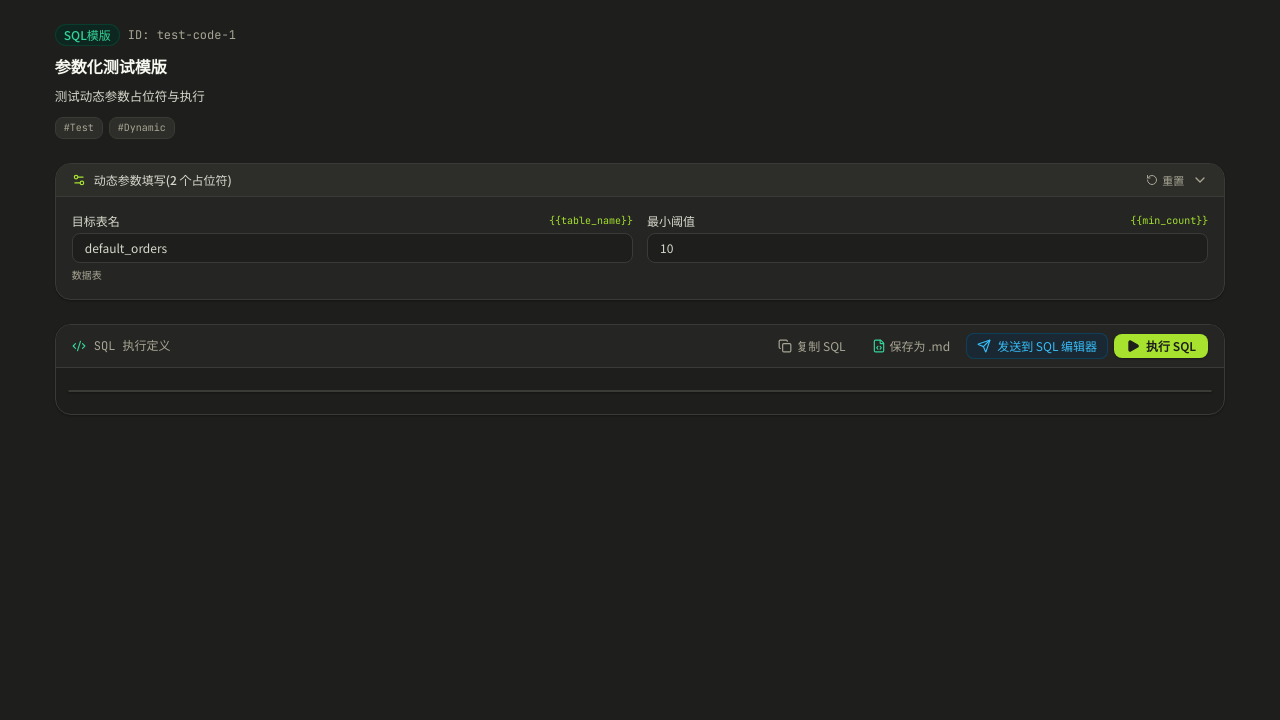
Test: CodeAssetDetail › runs query inline via duckDBService and displays results
Step 1. Click the button "执行 SQL" → (1161, 346), box [1114,334,1208,358]
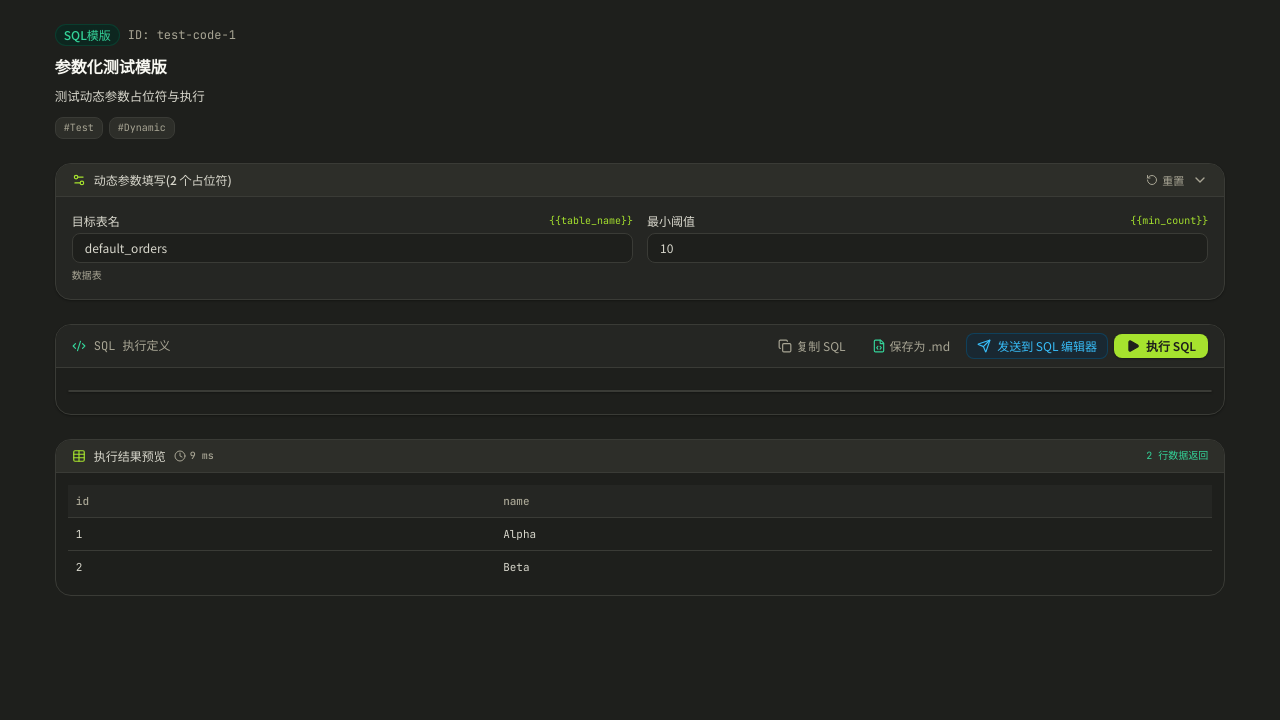
Now the text "Alpha" is shown, box [495,517,1212,550]
Now the text "Beta" is shown, box [495,550,1212,583]
Now the text "2 行数据返回" is shown, box [1146,448,1208,464]
